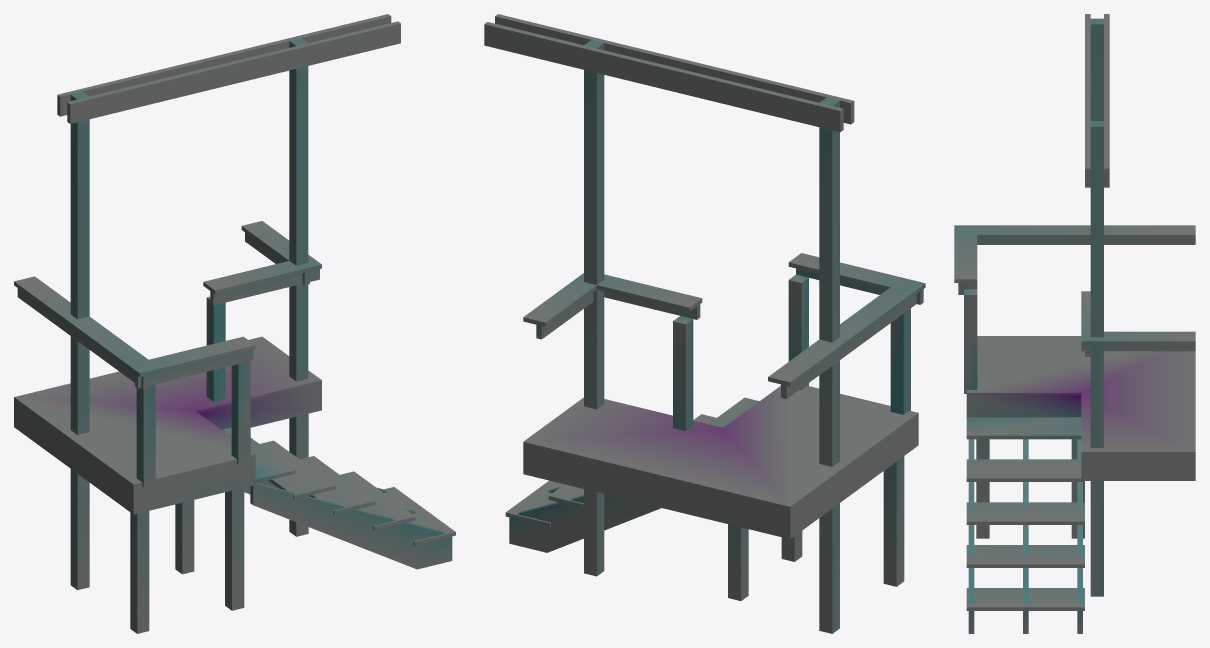
3 renders of one model, left to right at view 1: azimuth 30°, elevation 25°; view 2: azimuth 150°, elevation 25°; view 3: azimuth 270°, elevation 25°, orthographic. The views are drawn at different scales.
Visible parts, largest first — view 1: deck, overhead_beam.001, stringer.001, upright.002, upright.001, overhead_beam.002, rail_cap, post, post.002, post.001, rail_post.001, rail_post (+14 smaller); view 2: deck, overhead_beam.002, upright.001, upright.002, stringer.003, overhead_beam.001, rail_cap, post, rail_post.002, rail_post, rail_cap.003, rail_post.001 (+9 smaller); view 3: deck, upright.002, rail_cap, tread.004, tread.003, tread.002, tread.001, tread, post.004, rail_web, upright.001, rail_post.001 (+11 smaller).
Part boxes in pixels (x1=…): deck: x1=14, y1=336, x2=321, y2=514; overhead_beam.001: x1=67, y1=21, x2=400, y2=123; stringer.001: x1=250, y1=483, x2=452, y2=569; upright.002: x1=289, y1=38, x2=308, y2=381; upright.001: x1=70, y1=91, x2=89, y2=434; overhead_beam.002: x1=57, y1=14, x2=391, y2=116; rail_cap: x1=14, y1=276, x2=160, y2=377; post: x1=130, y1=511, x2=149, y2=633; post.002: x1=225, y1=488, x2=244, y2=610; post.001: x1=70, y1=469, x2=89, y2=590; rail_post.001: x1=231, y1=361, x2=250, y2=464; rail_post: x1=136, y1=384, x2=155, y2=487; deck: x1=523, y1=385, x2=918, y2=539; overhead_beam.002: x1=484, y1=22, x2=843, y2=132; upright.001: x1=819, y1=97, x2=839, y2=633; upright.002: x1=584, y1=40, x2=604, y2=576; stringer.003: x1=509, y1=494, x2=661, y2=552; overhead_beam.001: x1=495, y1=14, x2=854, y2=124; rail_cap: x1=768, y1=278, x2=925, y2=386; post: x1=883, y1=456, x2=904, y2=586; rail_post.002: x1=673, y1=316, x2=693, y2=431; rail_post: x1=890, y1=308, x2=910, y2=414; rail_cap.003: x1=575, y1=273, x2=702, y2=311; rail_post.001: x1=788, y1=274, x2=808, y2=389; deck: x1=966, y1=336, x2=1195, y2=480; upright.002: x1=1090, y1=121, x2=1103, y2=447; rail_cap: x1=954, y1=225, x2=1195, y2=238; tread.004: x1=966, y1=417, x2=1081, y2=439; tread.003: x1=966, y1=459, x2=1084, y2=481; tread.002: x1=966, y1=502, x2=1084, y2=524; tread.001: x1=966, y1=545, x2=1084, y2=567; tread: x1=966, y1=588, x2=1084, y2=610; post.004: x1=1090, y1=481, x2=1103, y2=596; rail_web: x1=977, y1=238, x2=1195, y2=244; upright.001: x1=1090, y1=18, x2=1103, y2=120; rail_post.001: x1=964, y1=289, x2=977, y2=393.
Bounding box in the file's own units: 3.53 × 5 × 2.33.
